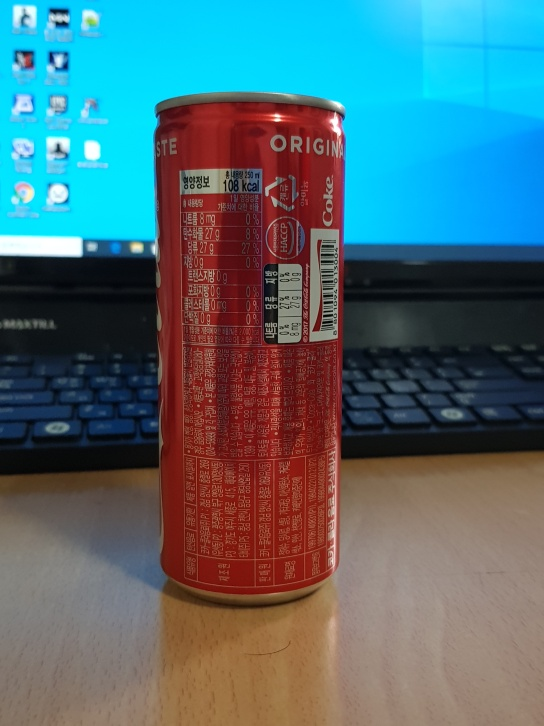Can: (151, 90, 352, 610)
